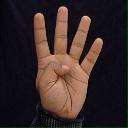hand: (33, 5, 103, 121)
